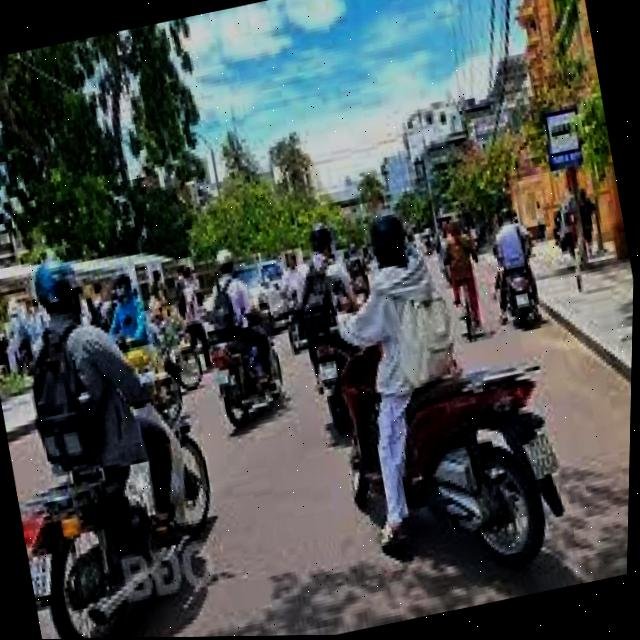motorcycle: (303, 287, 599, 617), (0, 360, 239, 640), (203, 320, 301, 424), (494, 261, 549, 336)
plate: (26, 547, 61, 603)
